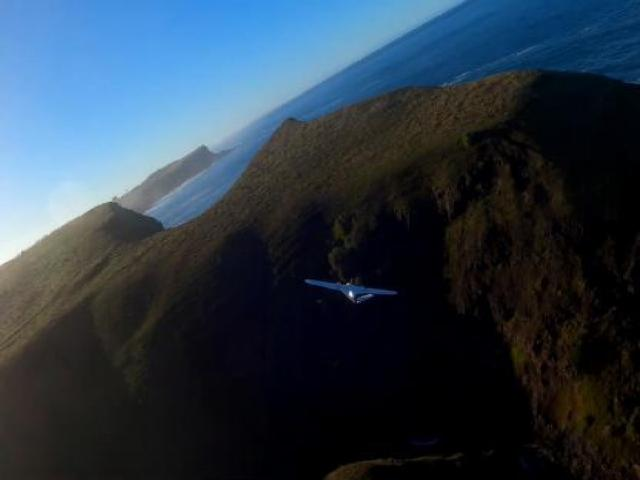uav: (302, 272, 402, 304)
